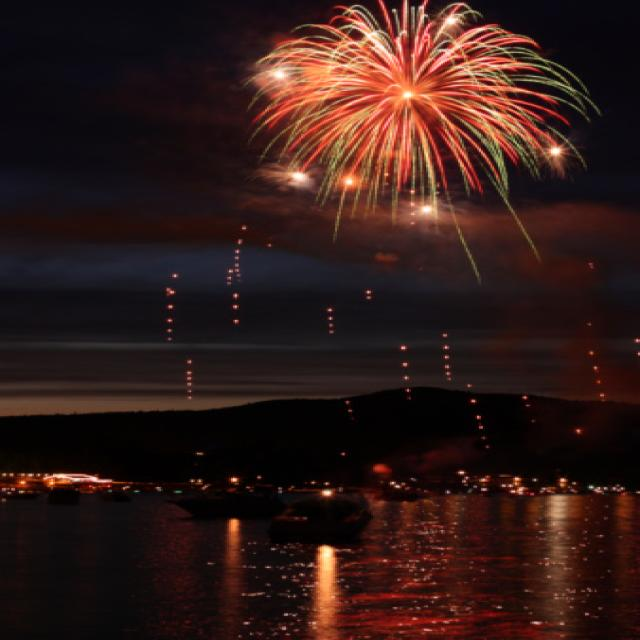Boat: (162, 471, 286, 535), (279, 492, 391, 549)
